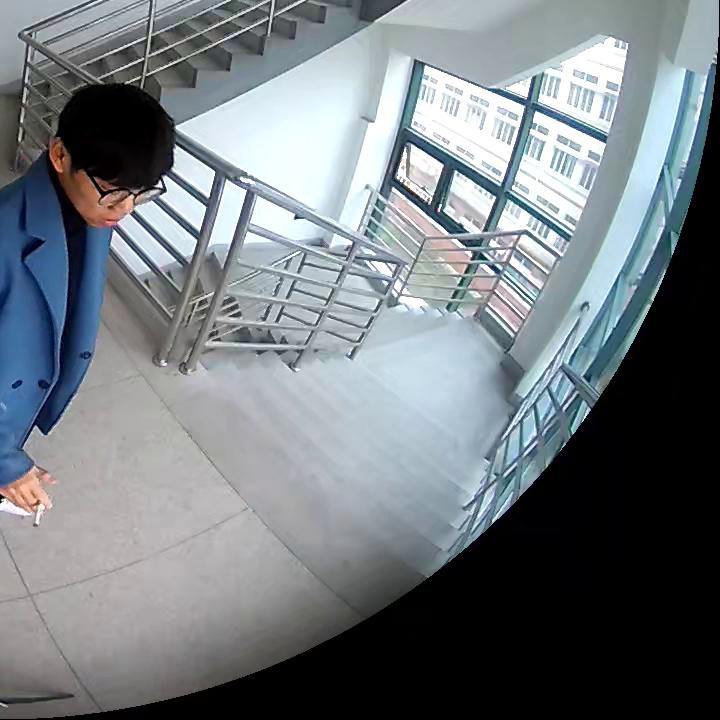handsmoke: (21, 469, 57, 530)
mouthwithoutsmoke: (49, 86, 176, 231)
